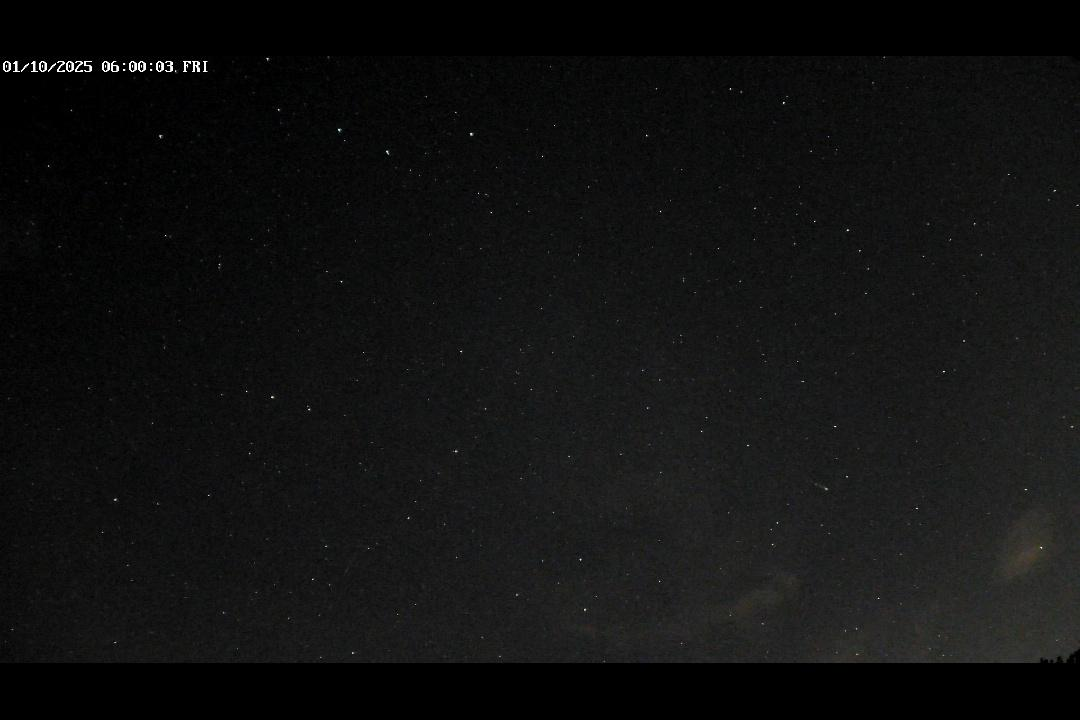Plane: (802, 477, 834, 492)
